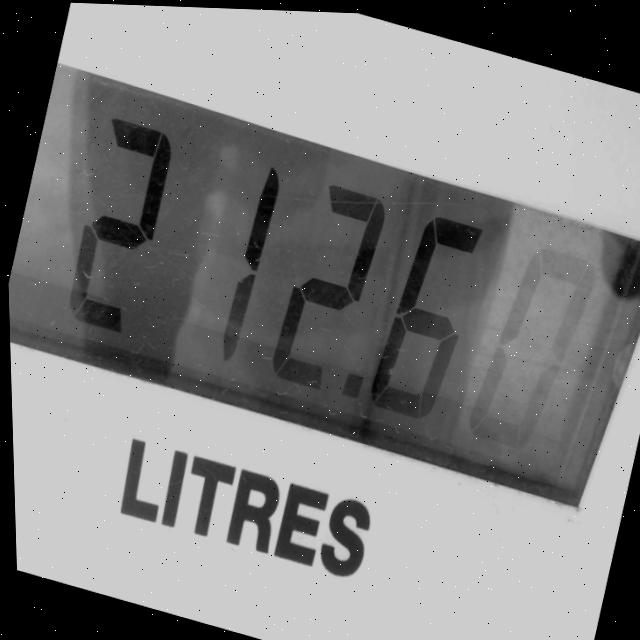.: (321, 345, 377, 429)
0: (436, 204, 616, 495)
2: (18, 97, 213, 339), (245, 154, 396, 425), (179, 131, 314, 386)
6: (348, 188, 510, 457)
